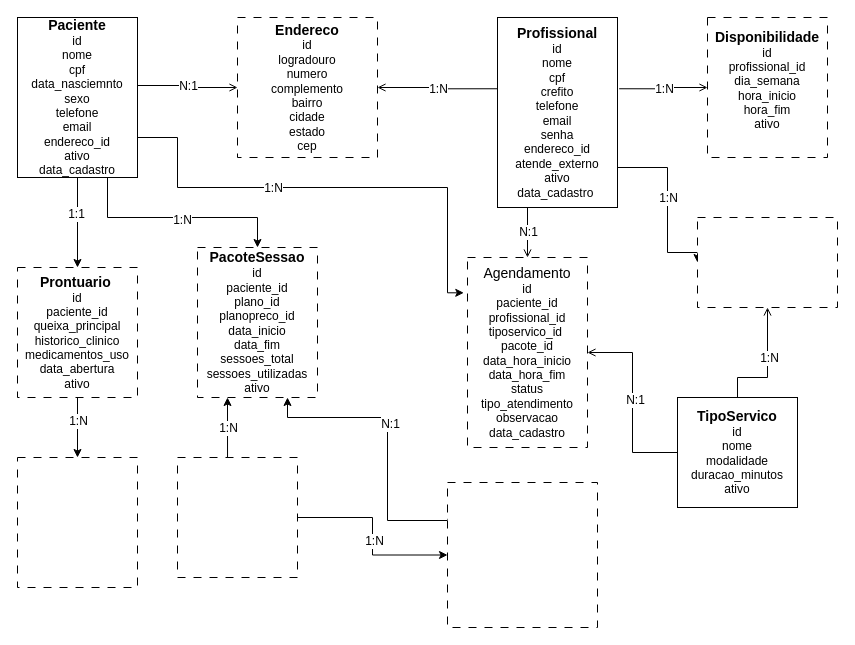
The diagram is 855 pixels wide and 645 high, and some of its shapes have lost their labels. The centre of each missing label's shape, as x and y in pixels:
EvolucaoPaciente id prontuario_id profissional_id descricao data_evolucao: pixel 77 522
Plano id nome duracao_meses vezes_semana vativo: pixel 237 517
PlanoPreco id plano_id valor vigente_a_partir_de ativo: pixel 522 555
ProfissionalServico id profissional_id servico_id: pixel 767 262
